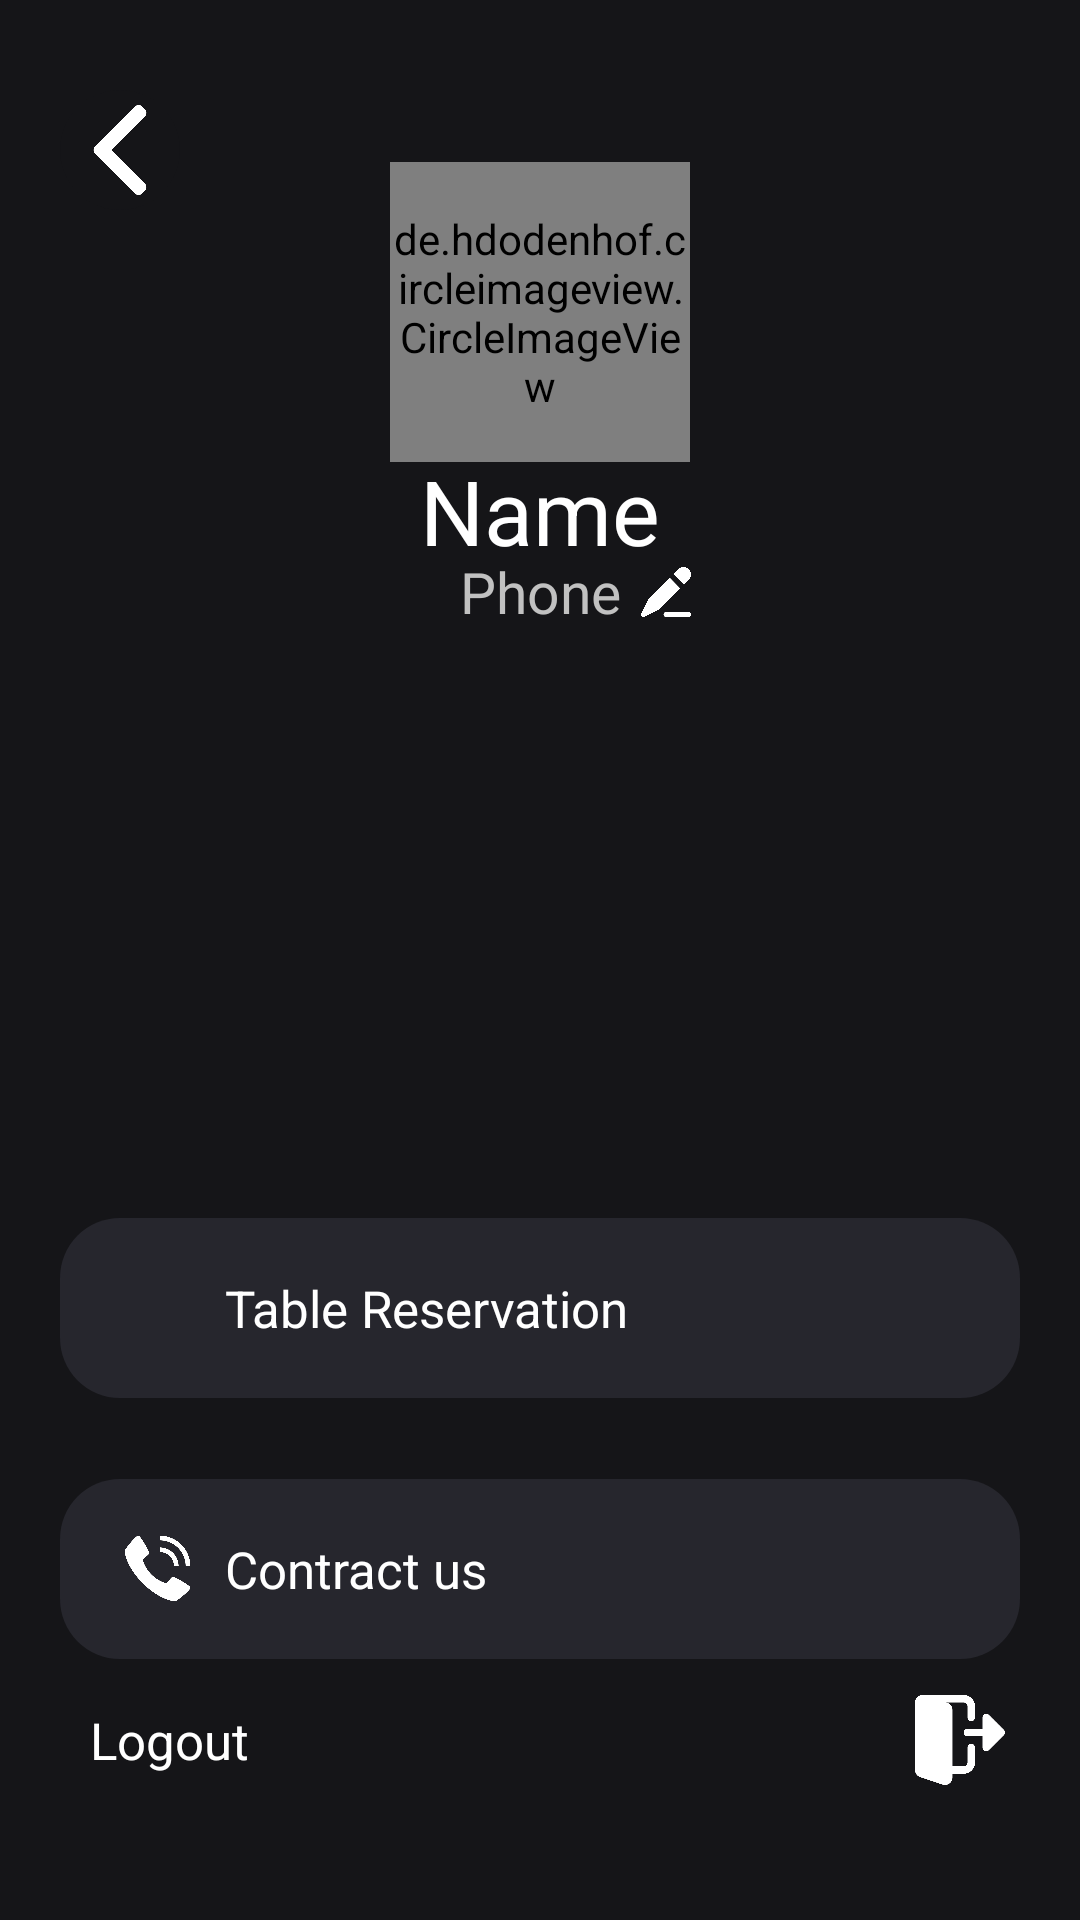

Where to tap for icons on this 1080px x 1920px app screen, as point (x, y):
edit text: point (666, 592)
left arrow: point (120, 150)
telephone call: point (157, 1568)
